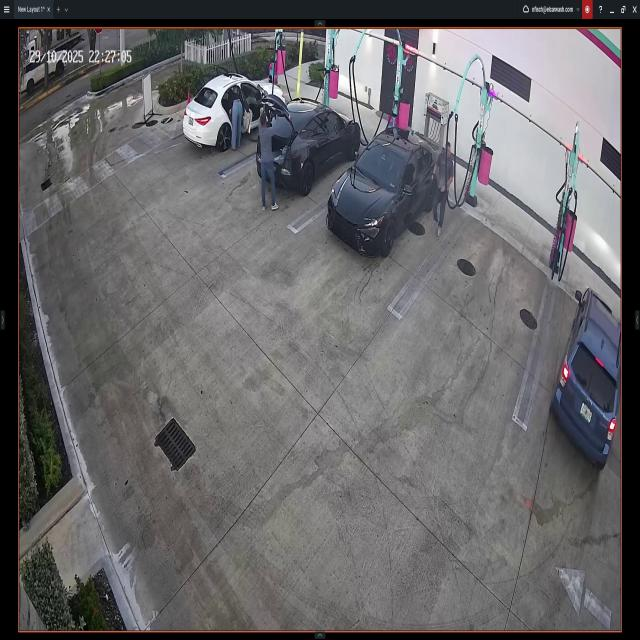Car: (328, 126, 444, 255), (546, 290, 616, 462), (258, 94, 360, 192), (181, 73, 286, 154)
